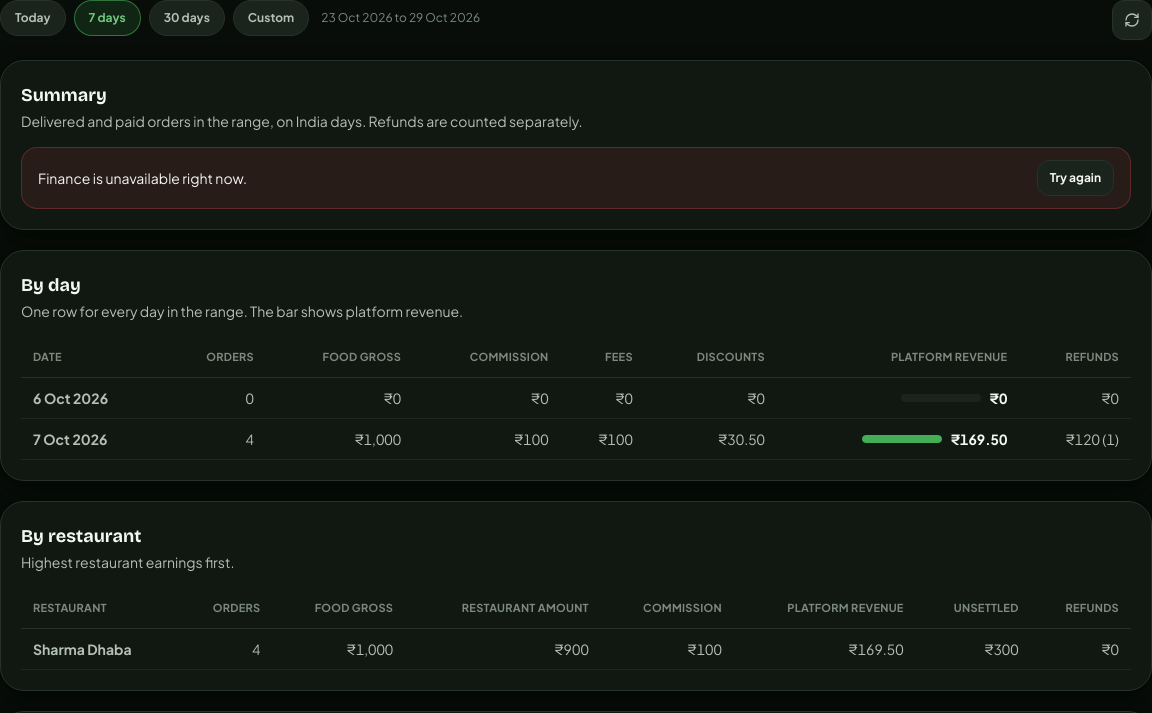
Test case: FinanceOverview › one section failing shows its own error and the rest still work; Try again reloads only that section
Expected: the message "Finance is unavailable right now. Try again" is shown, top-left (21, 147), bottom-right (1131, 209)
Click the button "Try again" at (1075, 178), box top-left (1037, 160), bottom-right (1114, 196)
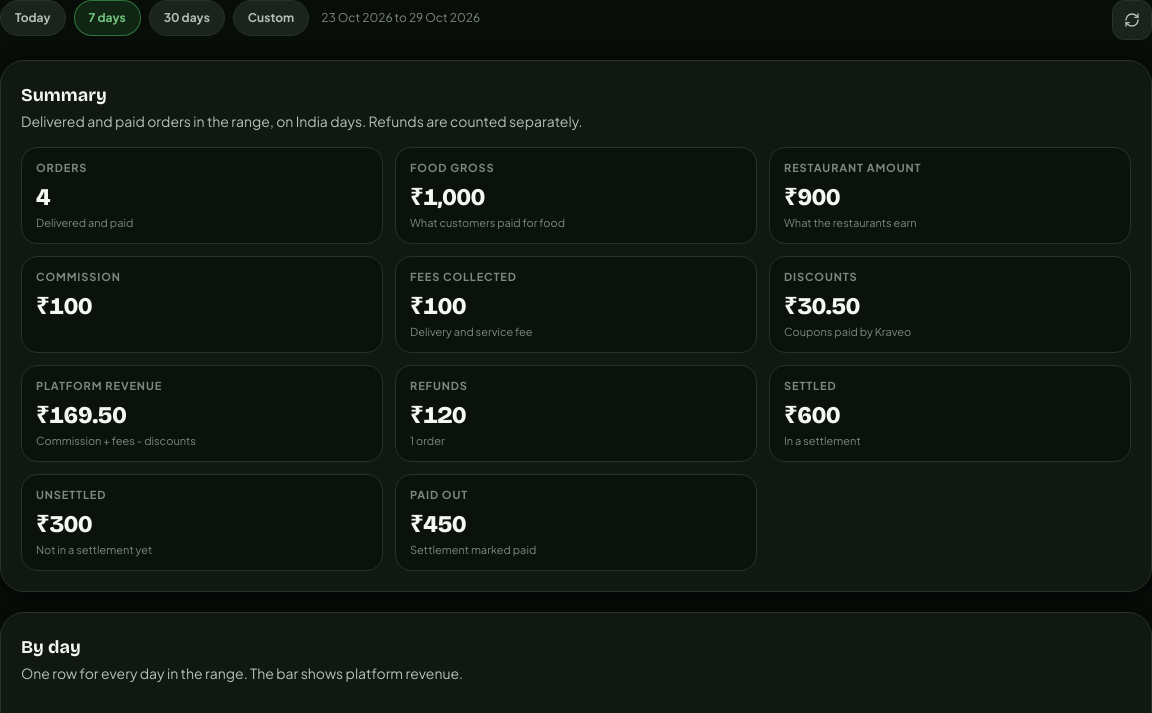
Result: the element with test id "finance-cards" is shown at top-left (21, 147), bottom-right (1131, 571)
